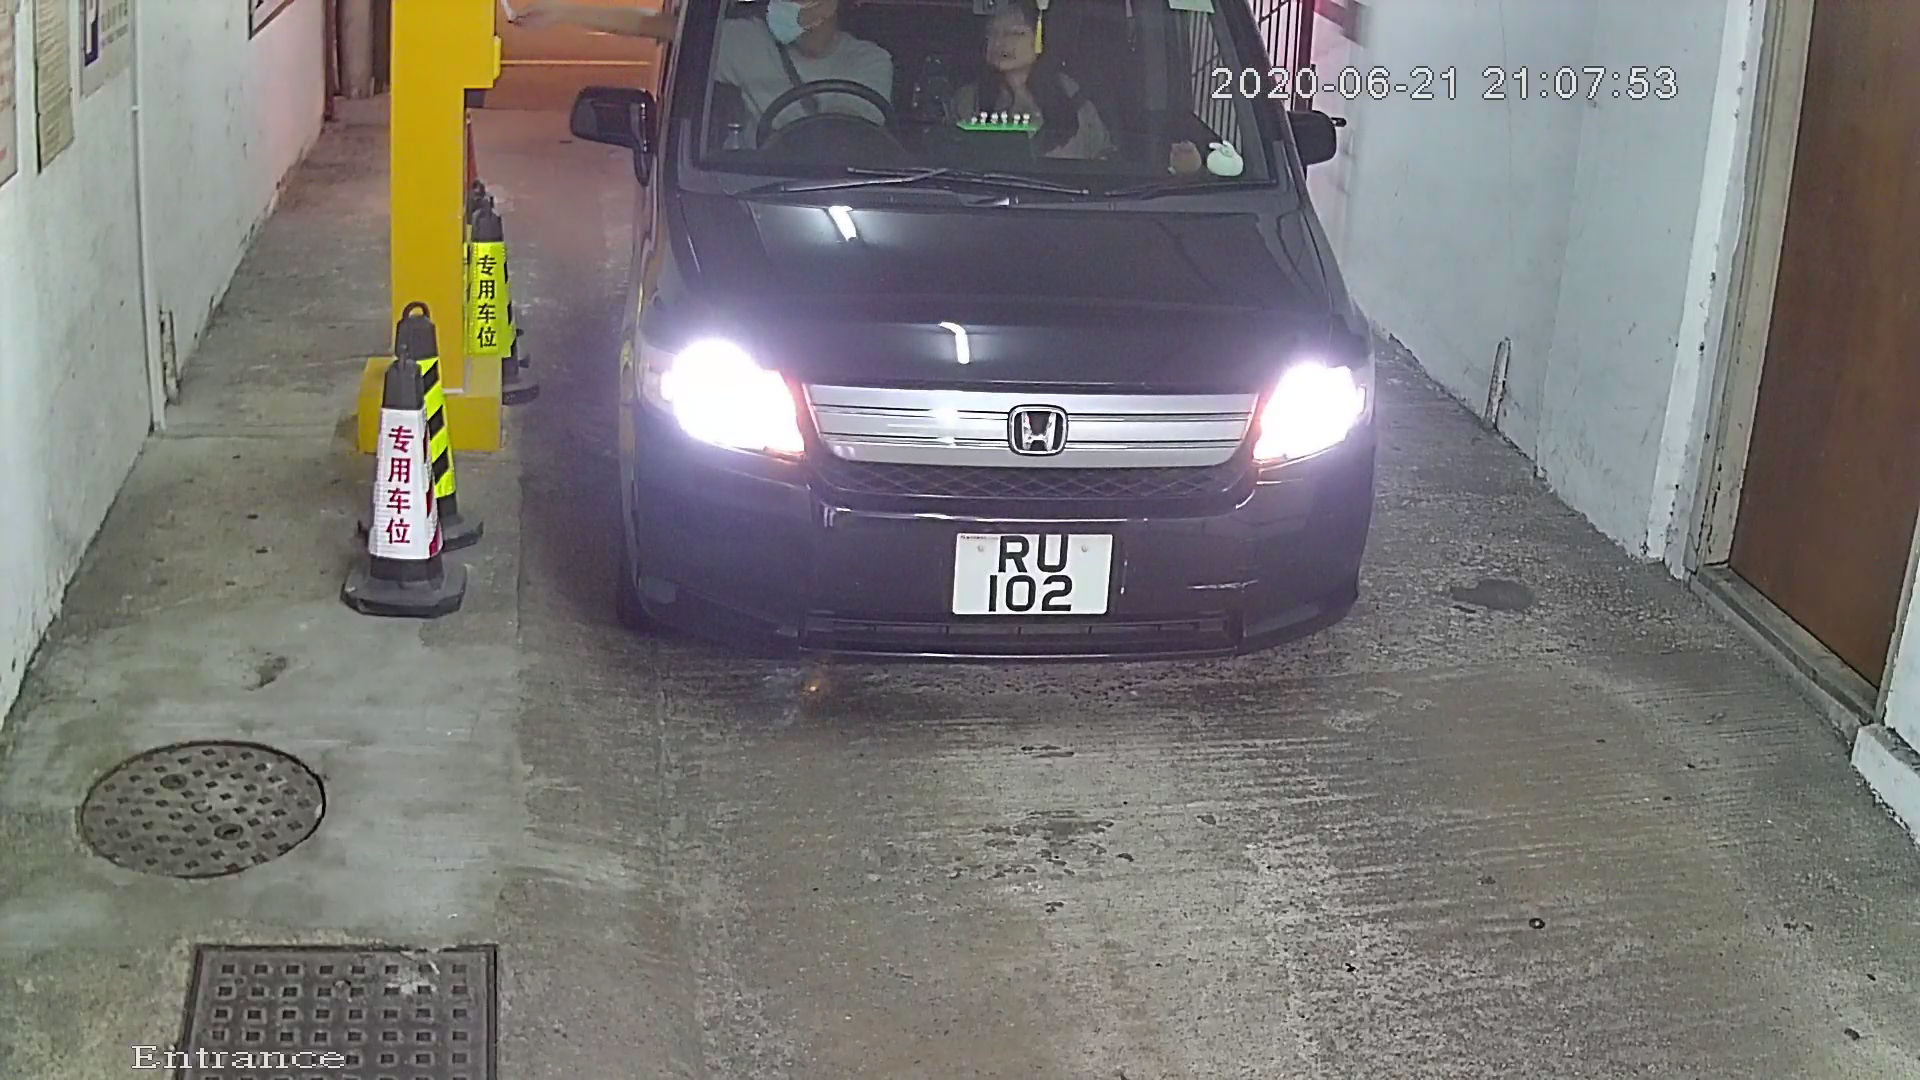privatecar: (603, 3, 1461, 764)
